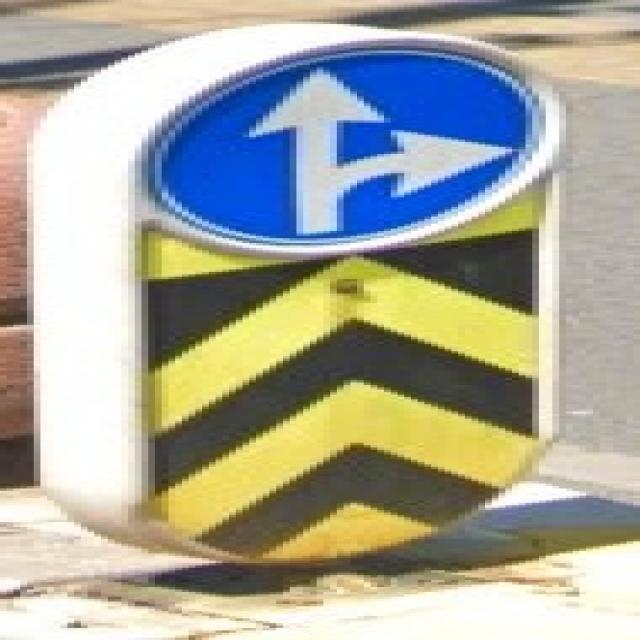Straight or Right: (122, 47, 540, 246)
